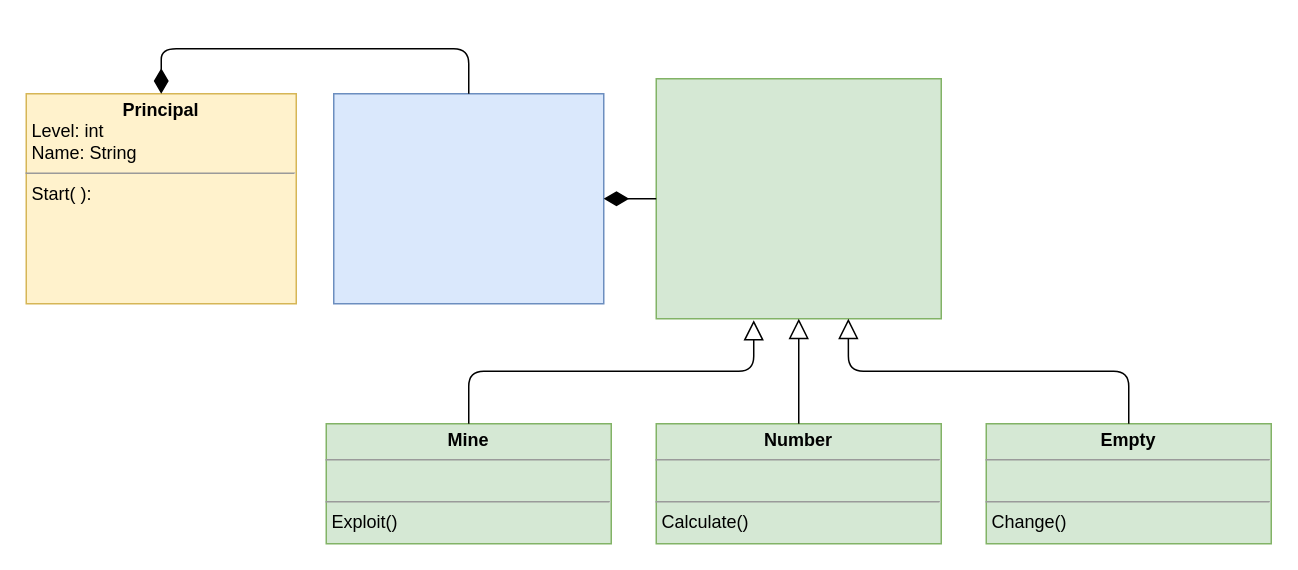
Some shapes in this 1298 by 570 pixel diagram are drawn without their labels. Here are the shapes that lost their labels. From the top down, the centre of each, then its label:
At pixel 468 198: "Board Size: int [ ] [ ] #Mines: int Paint( ):".
At pixel 798 198: "<<Field >> Field Type : int Image: int Position: int [ ] [ ] Push() Transform()".
